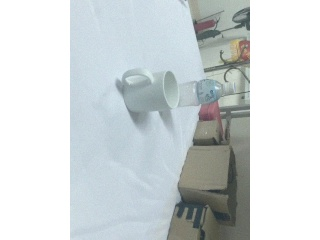bottle: (177, 79, 236, 108)
box: (179, 145, 237, 226), (167, 203, 220, 240), (191, 115, 228, 145)
cup: (121, 68, 180, 113)
